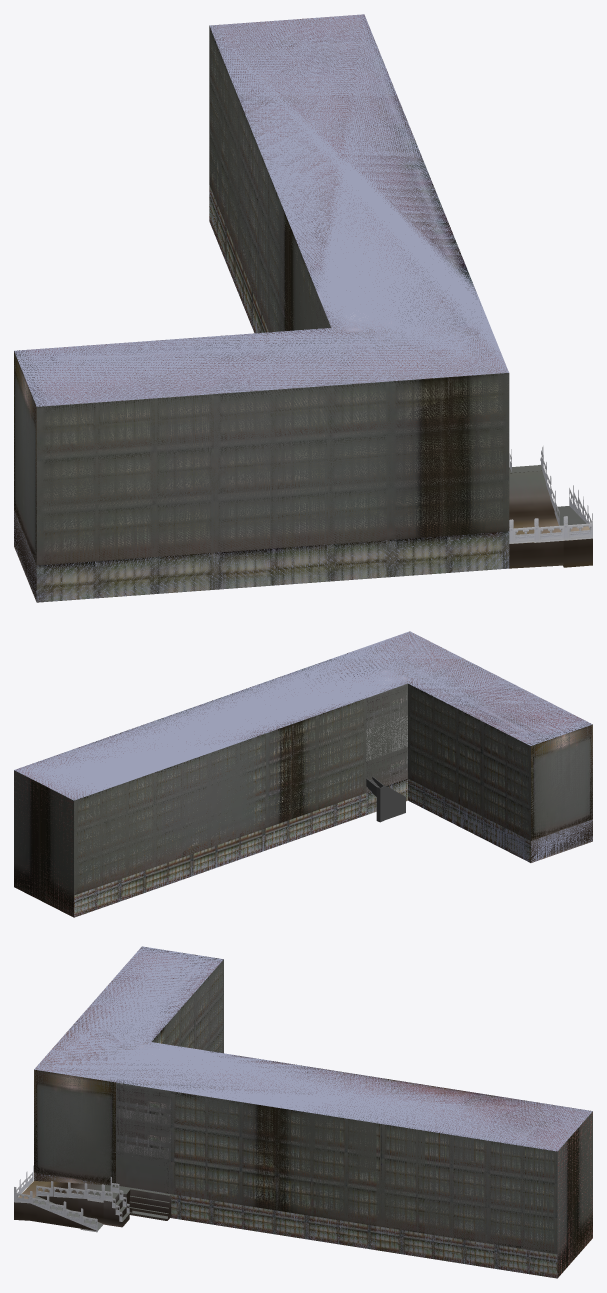
File: F2700009人文觀光大樓.fbx
The picture shows the model from 3 angles, top to bottom: view 1: azimuth 30°, elevation 25°; view 2: azimuth 150°, elevation 25°; view 3: azimuth 270°, elevation 25°; orthographic projection. The views are drawn at different scales.
Visible parts, largest first — view 1: Model; view 2: Model; view 3: Model.
Boxes of the visible parts, x1,y1,x2,y2 form: Model: (14, 14, 592, 602); Model: (14, 631, 592, 917); Model: (14, 946, 592, 1278).
Bounding box in the file's own units: 55.31 × 16.17 × 65.95.
